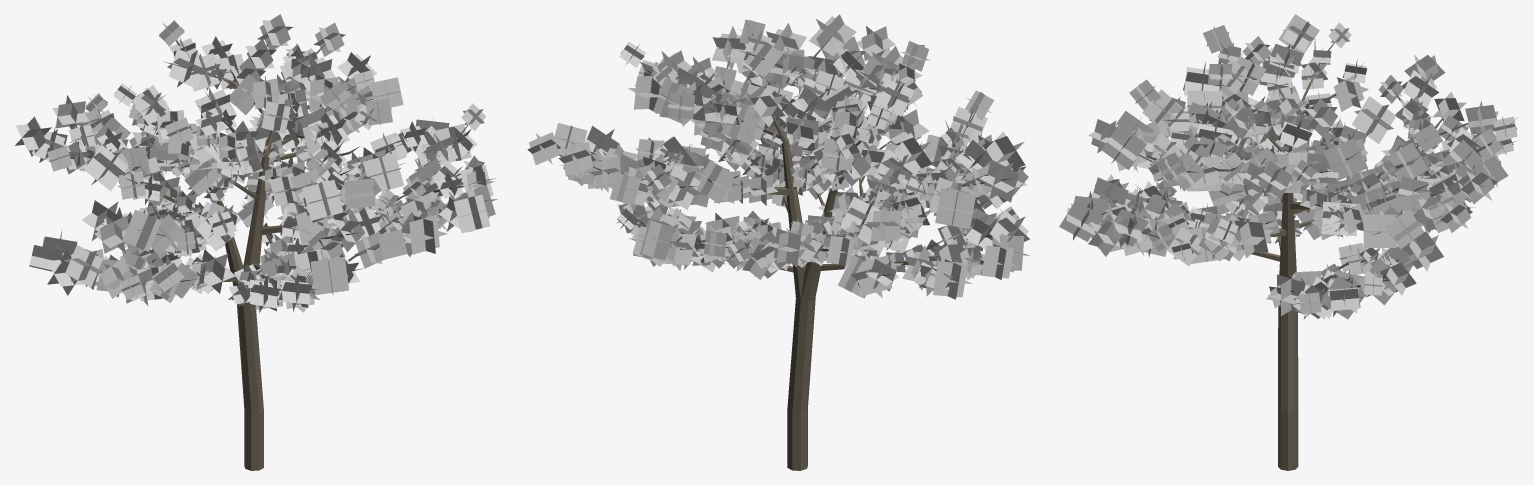
File: Xoan_2.fbx
3 renders of one model, left to right at view 1: azimuth 30°, elevation 25°; view 2: azimuth 150°, elevation 25°; view 3: azimuth 270°, elevation 25°, orthographic. The views are drawn at different scales.
Visible parts, largest first — view 1: Leaves_LOD0, Trunk_LOD0; view 2: Leaves_LOD0, Trunk_LOD0; view 3: Leaves_LOD0, Trunk_LOD0.
Boxes of the visible parts, x1=… form: Leaves_LOD0: x1=15, y1=14, x2=497, y2=312; Trunk_LOD0: x1=24, y1=22, x2=476, y2=470; Leaves_LOD0: x1=527, y1=14, x2=1029, y2=299; Trunk_LOD0: x1=559, y1=19, x2=1014, y2=470; Leaves_LOD0: x1=1059, y1=14, x2=1517, y2=319; Trunk_LOD0: x1=1107, y1=32, x2=1518, y2=470.
Size of what is drawn, in the model's own units: 5507 by 5031 by 5217.
